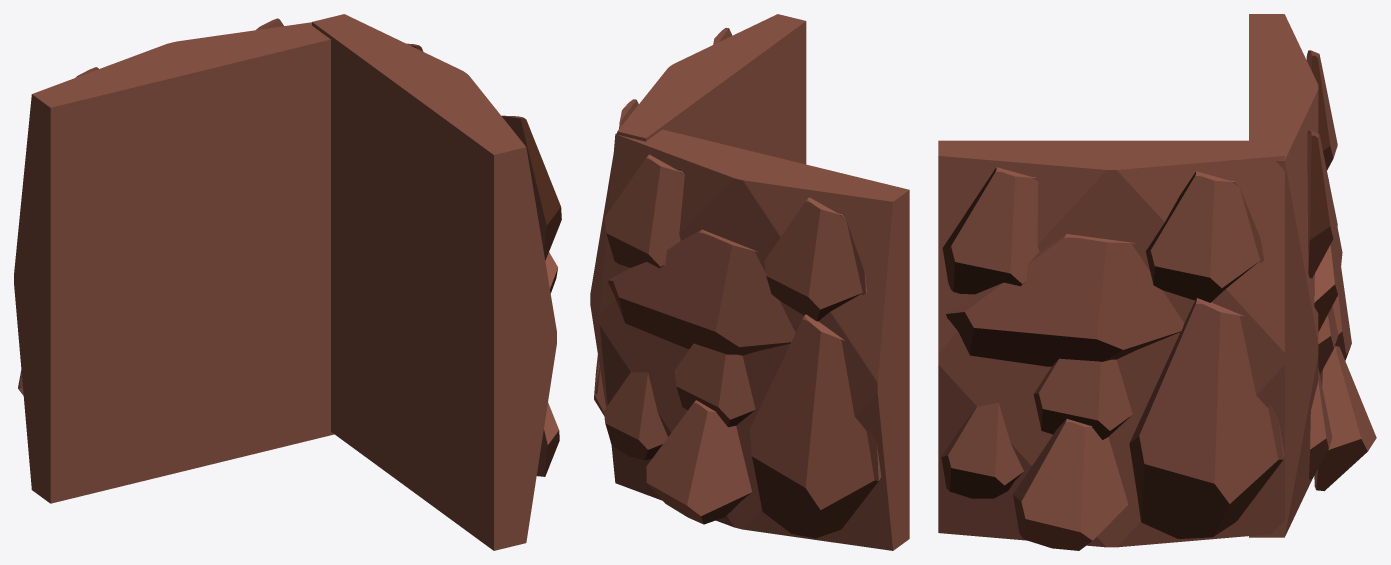
The model's file is Esquina2.fbx.
3 views of the same model, side by side, from view 1: azimuth 30°, elevation 25°; view 2: azimuth 150°, elevation 25°; view 3: azimuth 270°, elevation 25° (orthographic). The views are drawn at different scales.
Parts seen in each view (by area): view 1: Cube.005; view 2: Cube.005; view 3: Cube.005.
Boxes of the visible parts, bbox=[...] form: Cube.005: bbox=[14, 14, 561, 550]; Cube.005: bbox=[590, 14, 909, 550]; Cube.005: bbox=[938, 14, 1376, 550].
Size of the model in its own units: 314 by 303 by 316.
